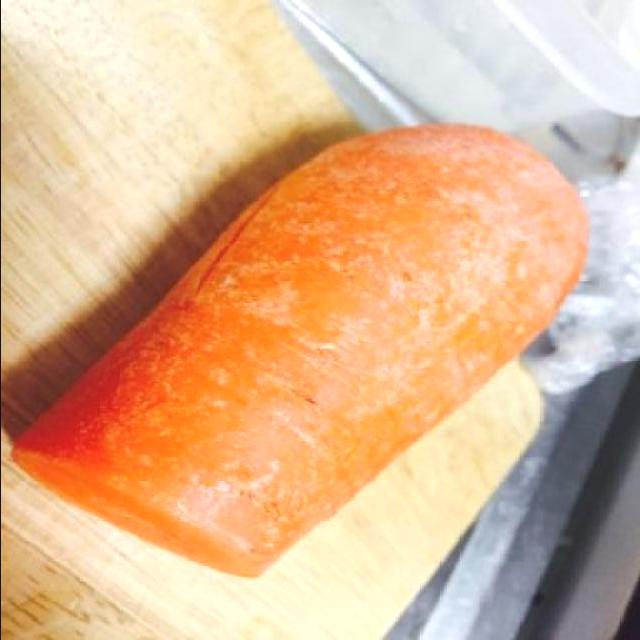carrot: (1, 123, 592, 585)
